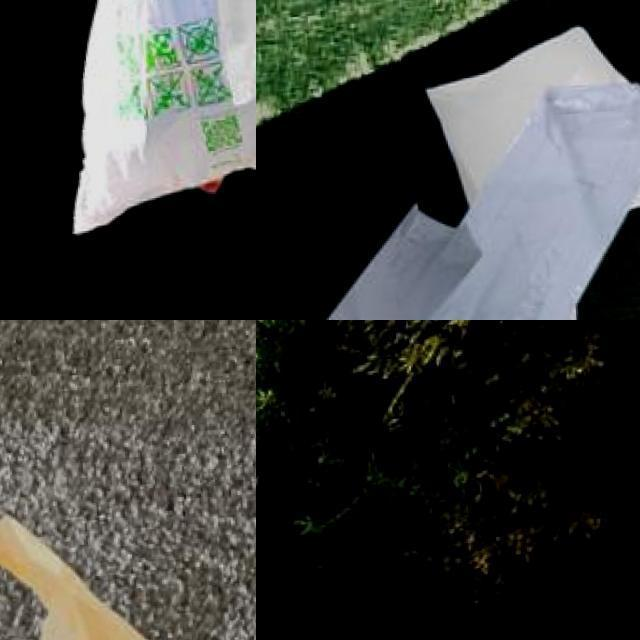waste: (417, 19, 640, 320), (45, 0, 256, 241), (0, 502, 207, 640)
